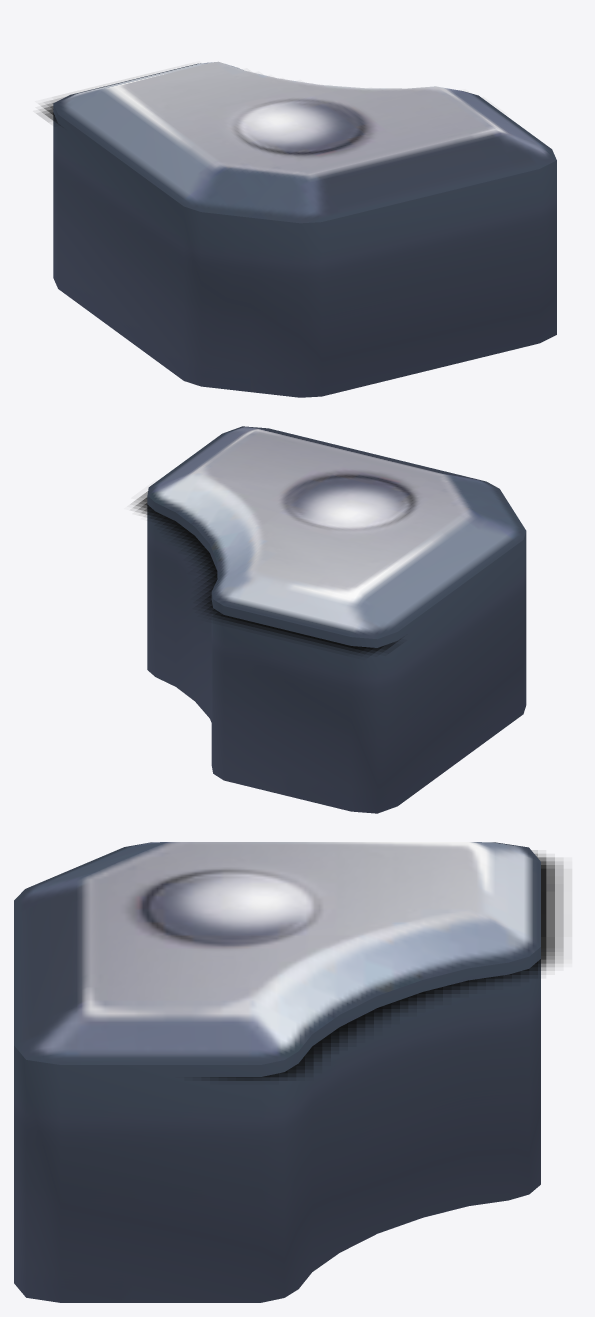
File: StationaryBlock_BottomLeft.glb
3 views of the same model, one above another, from view 1: azimuth 30°, elevation 25°; view 2: azimuth 150°, elevation 25°; view 3: azimuth 270°, elevation 25° (orthographic). The views are drawn at different scales.
Parts seen in each view (by area): view 1: StationaryBlock_BottomLeft; view 2: StationaryBlock_BottomLeft; view 3: StationaryBlock_BottomLeft.
Boxes of the visible parts, left/top/right/bottom form: StationaryBlock_BottomLeft: left=37, top=61, right=556, bottom=397; StationaryBlock_BottomLeft: left=132, top=426, right=526, bottom=813; StationaryBlock_BottomLeft: left=14, top=842, right=563, bottom=1302.
Bounding box in the file's own units: 0.3483 × 0.1802 × 0.3441.
Materials: 2 (2 with a texture image).
